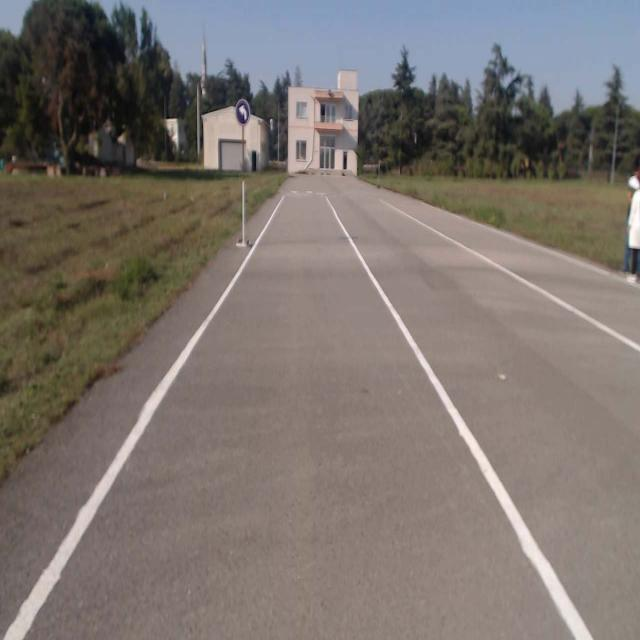sol: (235, 100, 250, 124)
